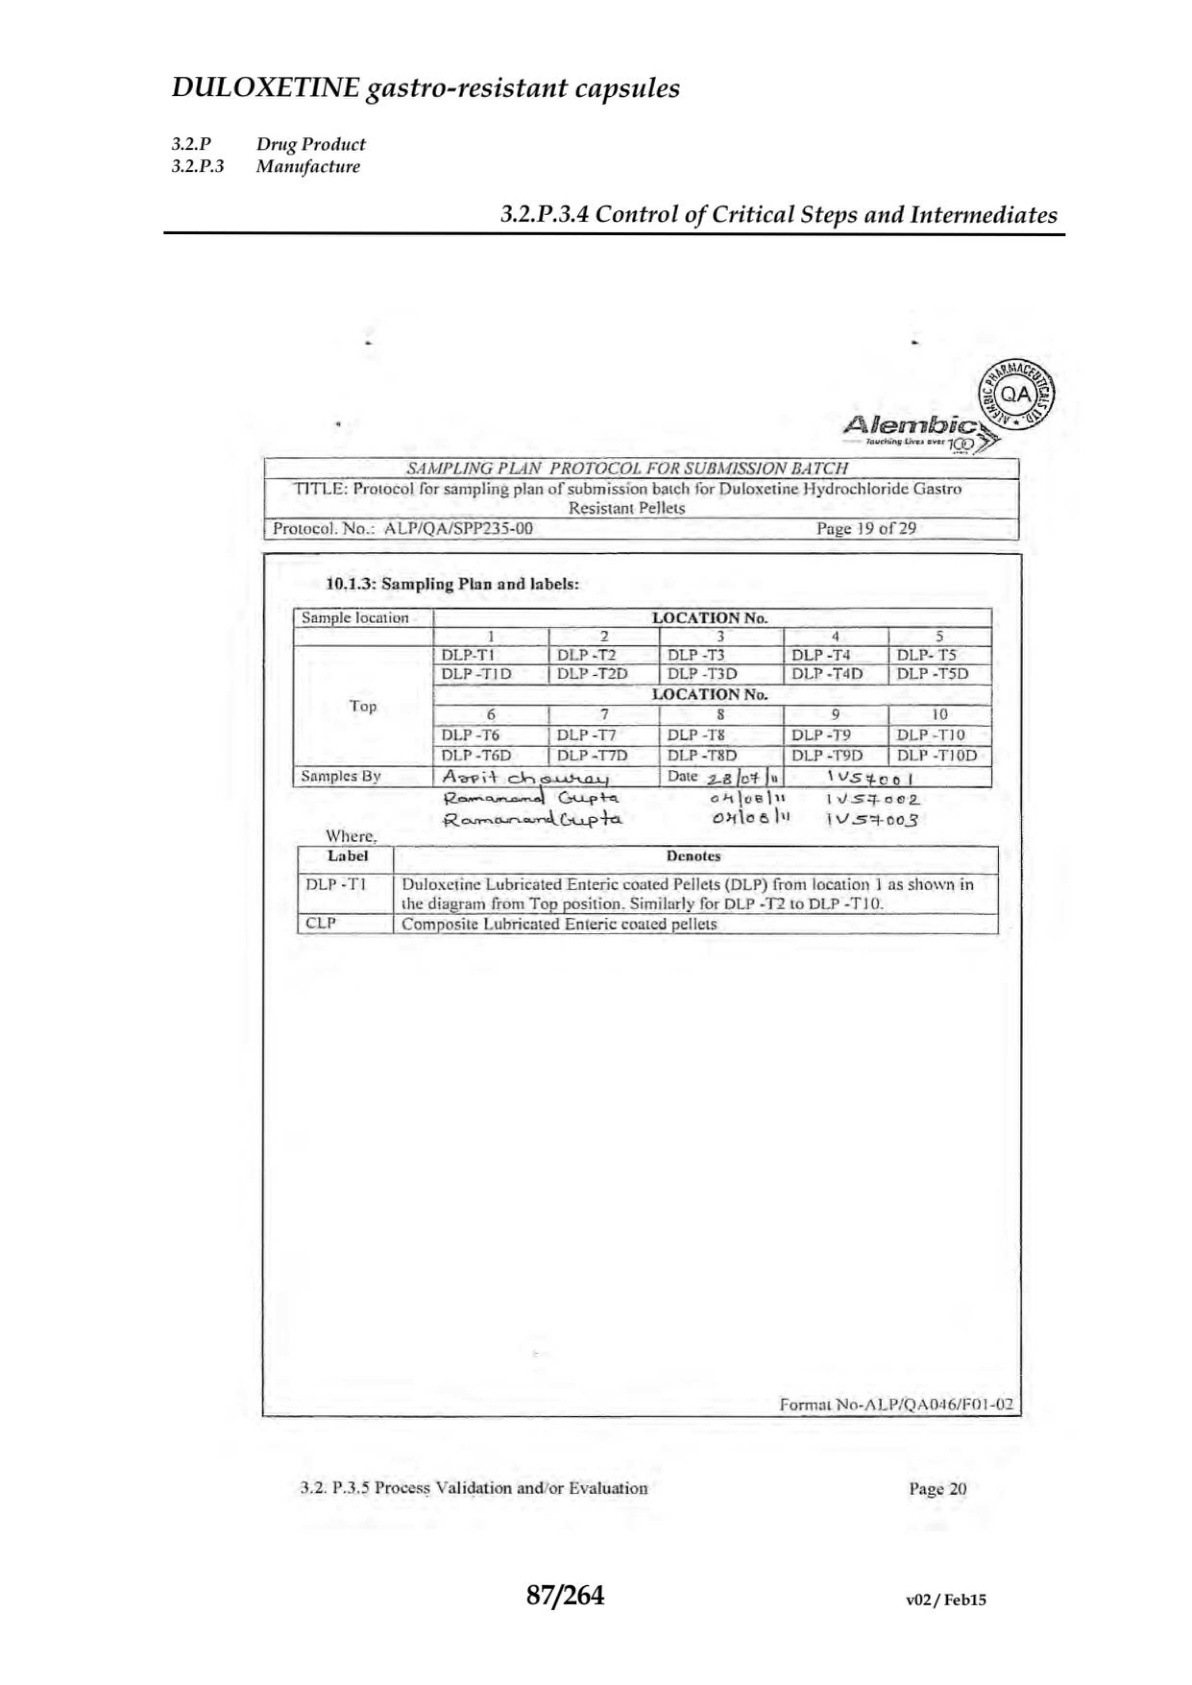full_lined: (262, 455, 1020, 541), (295, 844, 1000, 935)
merged_cells: (292, 606, 993, 790)
